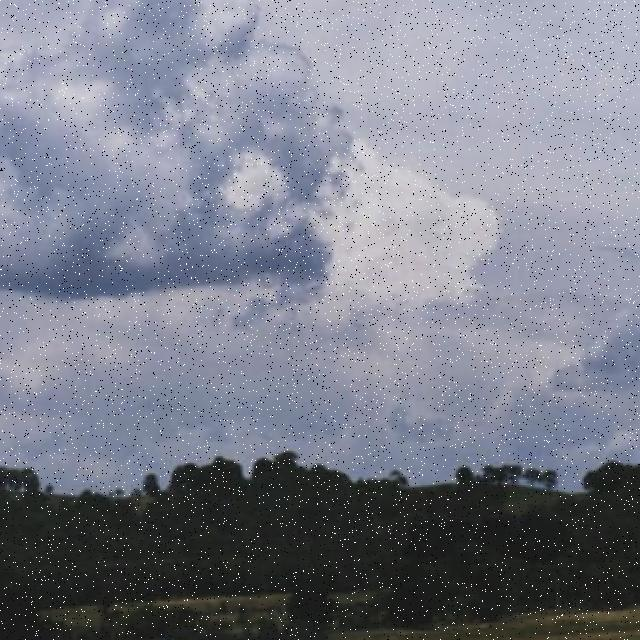Cs: (1, 1, 640, 391)
